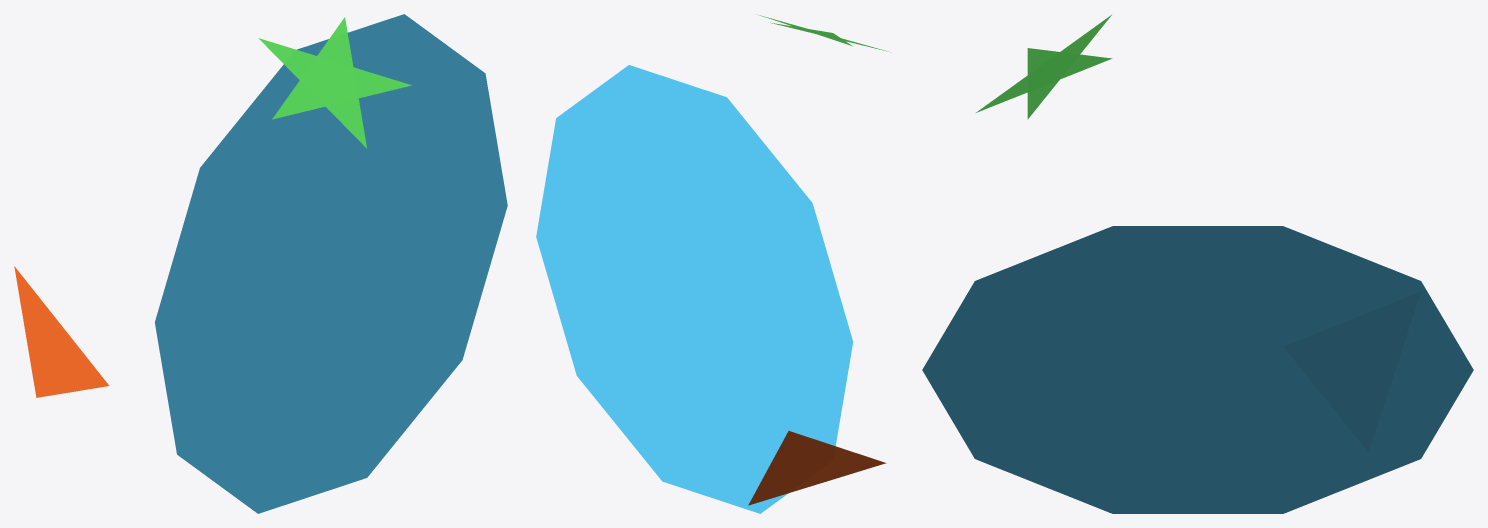
File: SmallDitrigonalDodecicosidodecahedronF.obj
3 renders of one model, left to right at view 1: azimuth 30°, elevation 25°; view 2: azimuth 150°, elevation 25°; view 3: azimuth 270°, elevation 25°, orthographic. The views are drawn at different scales.
Bounding box in the file's own units: 2.62 × 3.24 × 3.24.
